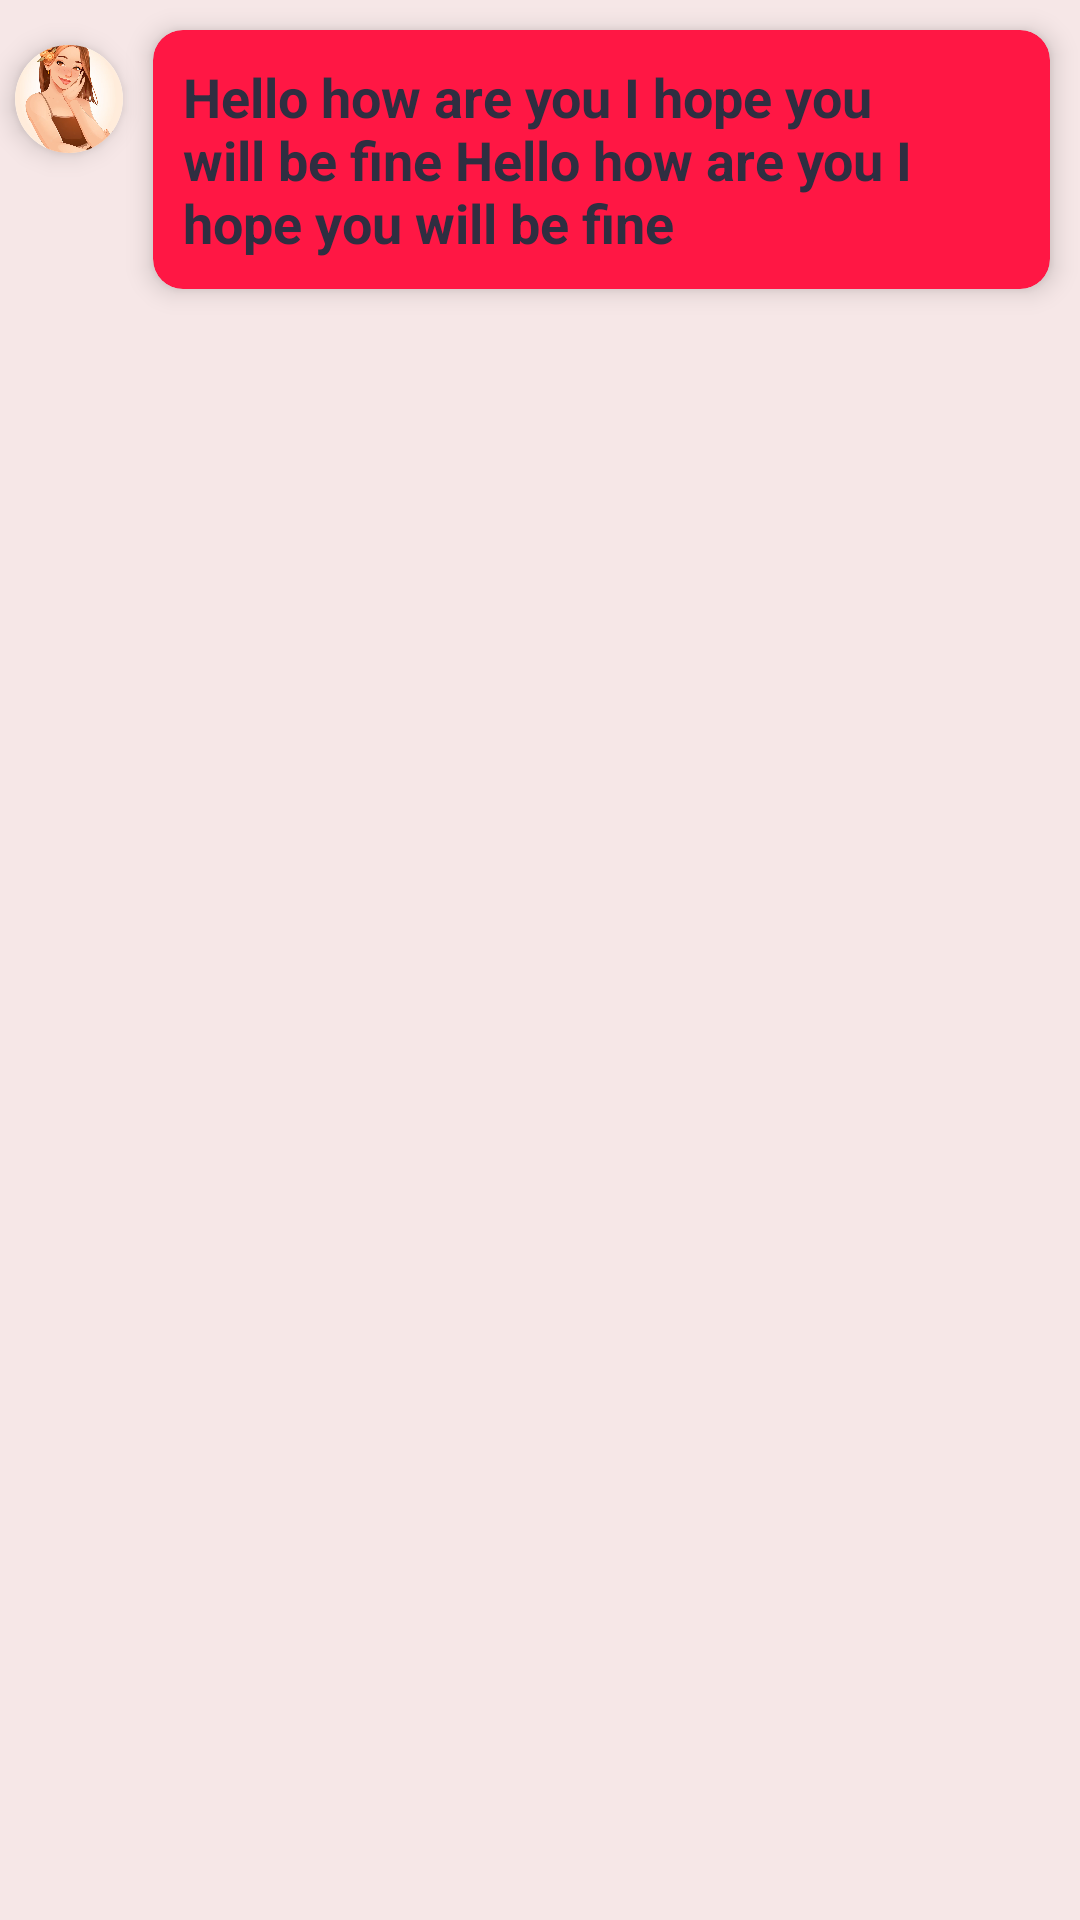

Point at icon controls on the screen. Image size 1080 × 1920, points as point (x, y).
profile: point (64, 99)
